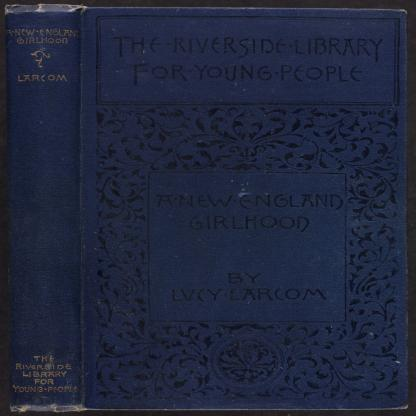book: (1, 4, 411, 414)
